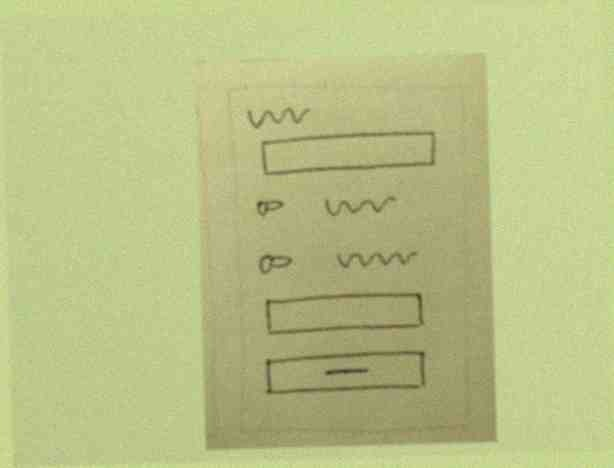button: (257, 346, 431, 402)
switch: (250, 246, 298, 279), (252, 189, 288, 220)
text: (327, 242, 420, 279), (318, 190, 401, 219), (244, 102, 313, 128)
text_input: (256, 128, 443, 179), (261, 287, 430, 339)
